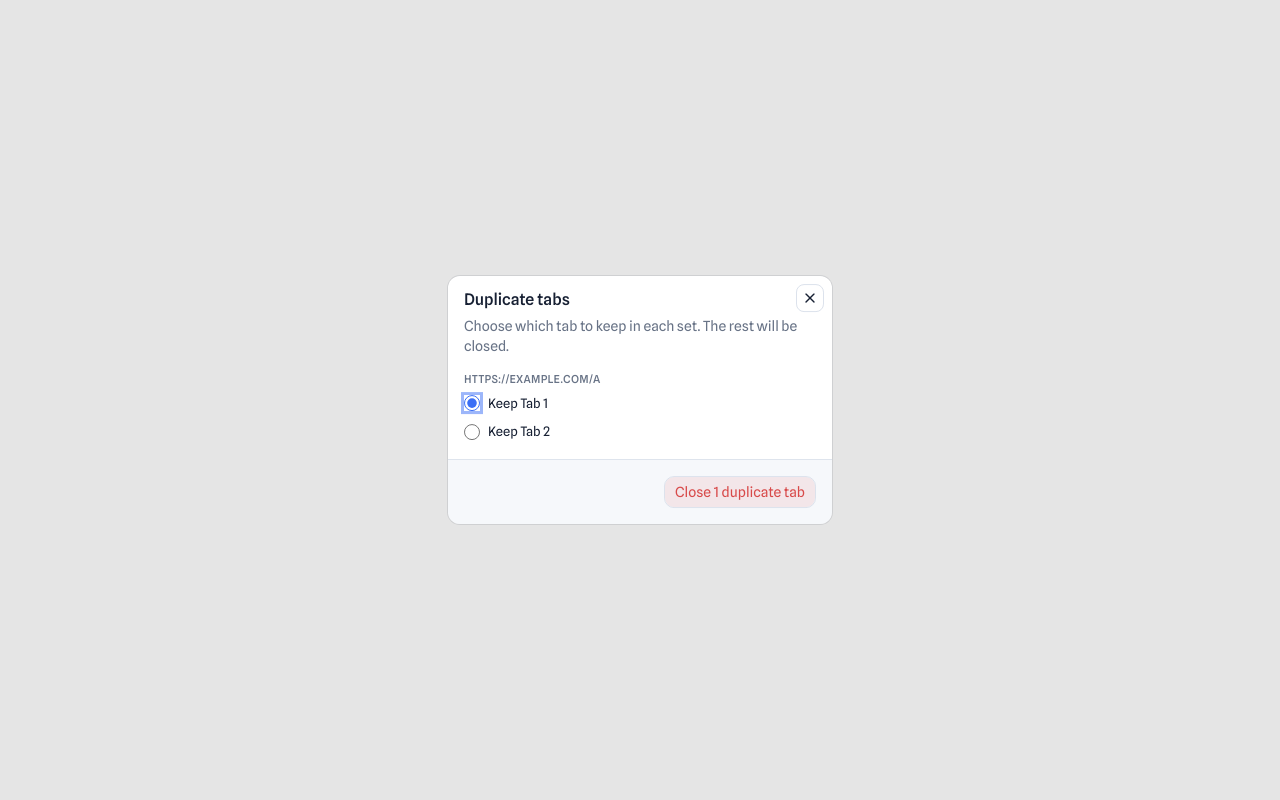
Scenario: DuplicatesDialog › keeps the dialog open and shows an error toast when closeTabs rejects
Click the button "Close 1 duplicate tab".
click(740, 492)  # box [664,476,816,508]
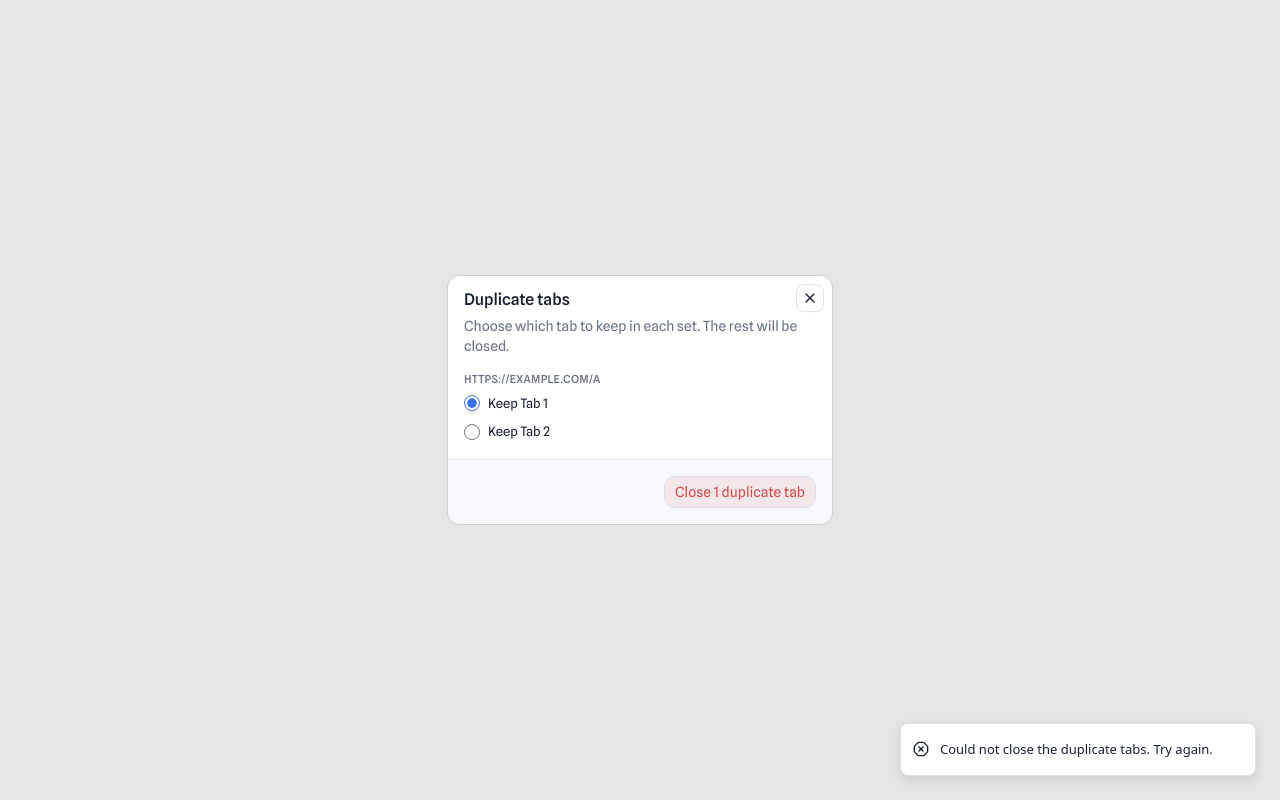
Result: the text "Could not close the duplicate tabs. Try again." is shown at [940,740,1213,759]
